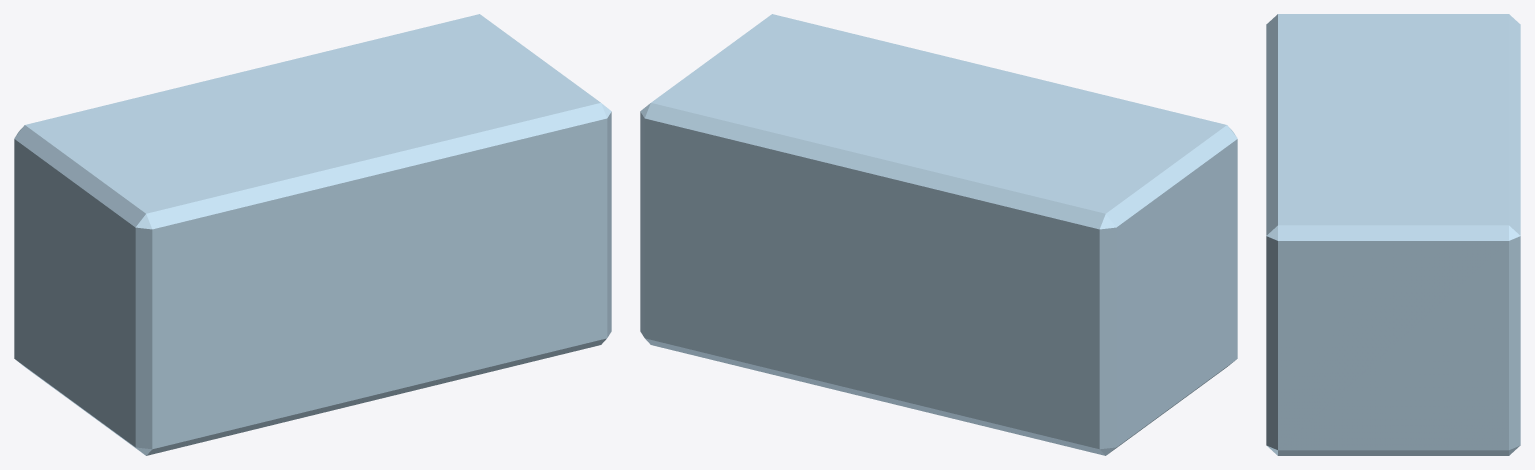
The model's file is R4B_Beam2_LOD1.glb.
3 views of the same model, side by side, from view 1: azimuth 30°, elevation 25°; view 2: azimuth 150°, elevation 25°; view 3: azimuth 270°, elevation 25° (orthographic). The views are drawn at different scales.
Parts seen in each view (by area): view 1: R4B_Beam2_LOD1; view 2: R4B_Beam2_LOD1; view 3: R4B_Beam2_LOD1.
Part boxes in pixels (x1,y1,x2,y2): R4B_Beam2_LOD1: (14, 14, 611, 455); R4B_Beam2_LOD1: (640, 14, 1237, 455); R4B_Beam2_LOD1: (1266, 14, 1520, 455).
Size of the model in its own units: 1.07 by 0.52 by 0.52.
